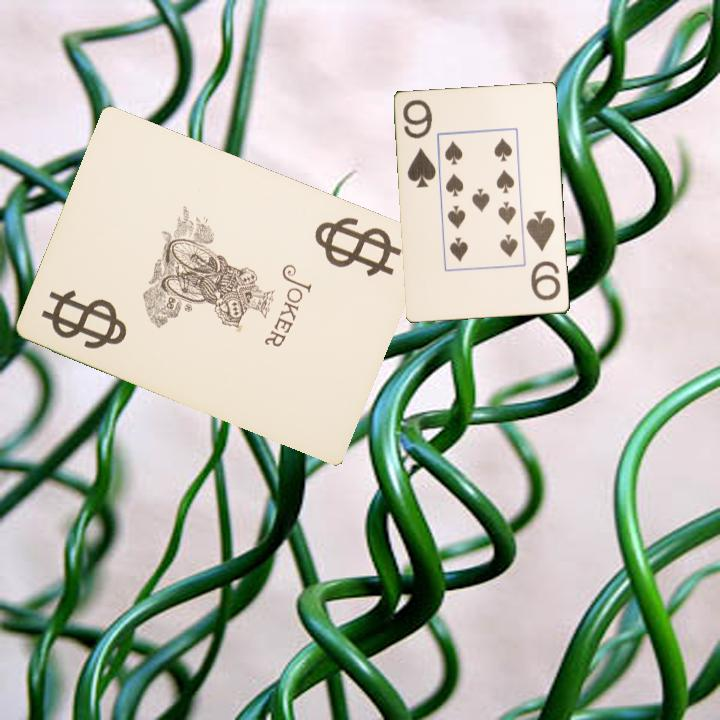9s: (523, 207, 564, 304), (400, 97, 439, 191)
JK: (38, 287, 131, 352), (317, 223, 389, 267)
